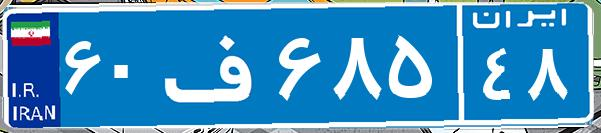0: (110, 28, 158, 105)
4: (475, 38, 525, 113)
5: (385, 28, 445, 110)
6: (273, 28, 330, 110), (57, 26, 110, 107)
8: (330, 28, 385, 110), (525, 38, 570, 115)
ف: (158, 15, 273, 115)
